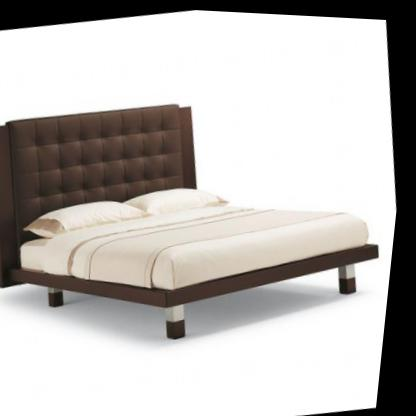Bed: (0, 63, 406, 374)
